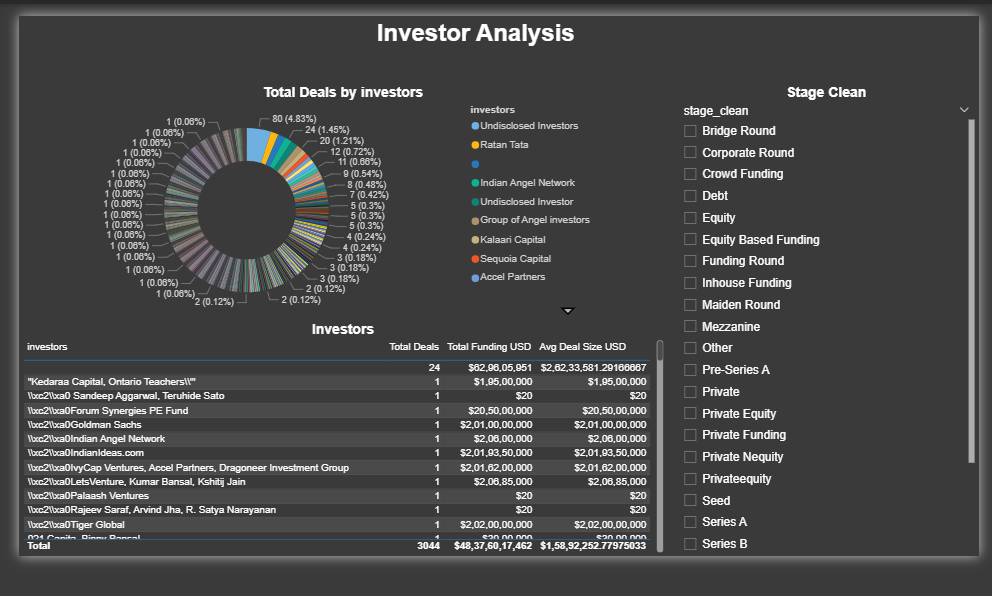

Layout of this report page (visuals, bound fields, positions):
{"tool":"powerbi","page":{"name":"Investor Analysis","canvas":[1280,720],"ordinal":3},"visuals":[{"type":"donutChart","fields":{"Category":["startup_funding_cleaned.investors"],"Y":["startup_funding_cleaned.Total Deals"]},"box":[0,92,864,314],"z":0},{"type":"tableEx","title":"Investors","fields":{"Values":["startup_funding_cleaned.investors","startup_funding_cleaned.Total Deals","startup_funding_cleaned.Total Funding USD","startup_funding_cleaned.Avg Deal Size USD"]},"box":[0,406,864,314],"z":1000},{"type":"slicer","title":"Stage Clean","fields":{"Values":["startup_funding_cleaned.stage_clean"]},"box":[874,92,406,628],"z":2000},{"type":"textbox","box":[230,0,758,54],"z":3000}]}

Visuals, with their boxes on the page's 1280x720 design canvas (x1, y1, x2, y2). These are canvas units, not pixel positions in the 992x596 screenshot, which may show the page scaled, cropped or inside an application window:
donutChart - startup_funding_cleaned.investors x startup_funding_cleaned.Total Deals: region(0, 92, 864, 406)
"Investors" tableEx: region(0, 406, 864, 720)
"Stage Clean" slicer: region(874, 92, 1280, 720)
textbox: region(230, 0, 988, 54)
